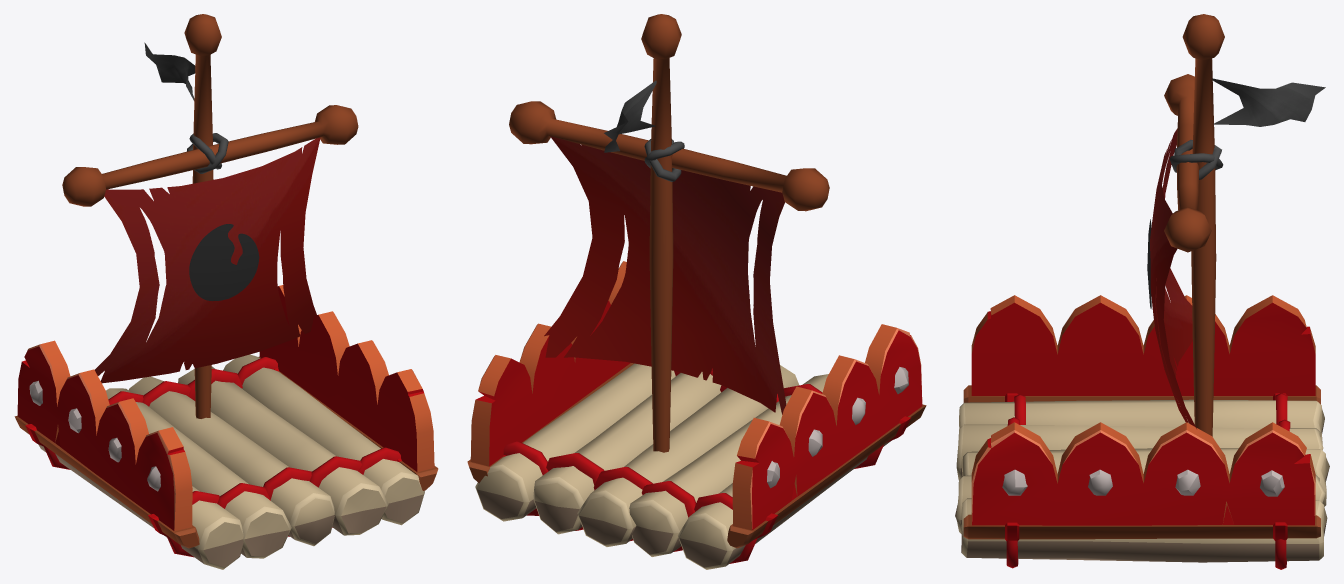
File: RaftTypeC.fbx
The picture shows the model from 3 angles, left to right: view 1: azimuth 30°, elevation 25°; view 2: azimuth 150°, elevation 25°; view 3: azimuth 270°, elevation 25°; orthographic projection. The views are drawn at different scales.
Visible parts, largest first — view 1: Red_Color_Cloth_04, Red_Color_06, Armor_Color_11, Red_Color_05, Armor_Color_10, Red_Color_04, Armor_Color_09, Red_Color_01, Red_Color_02; view 2: Red_Color_Cloth_04, Red_Color_06, Armor_Color_11, Red_Color_04, Red_Color_05, Armor_Color_10, Red_Color_02, Armor_Color_09; view 3: Armor_Color_10, Armor_Color_11, Red_Color_06, Red_Color_04, Red_Color_Cloth_04, Red_Color_05, Armor_Color_09, Red_Color_02, Red_Color_01.
Part boxes in pixels (x1,y1,x2,y2): Red_Color_Cloth_04: [95, 42, 320, 383]; Red_Color_06: [38, 133, 334, 569]; Armor_Color_11: [17, 340, 192, 531]; Red_Color_05: [178, 354, 424, 535]; Armor_Color_10: [259, 285, 434, 471]; Red_Color_04: [62, 14, 358, 418]; Armor_Color_09: [14, 356, 438, 548]; Red_Color_01: [167, 447, 400, 557]; Red_Color_02: [44, 357, 278, 469]; Red_Color_Cloth_04: [544, 80, 786, 414]; Red_Color_06: [577, 139, 891, 569]; Armor_Color_11: [732, 324, 922, 530]; Red_Color_04: [509, 14, 829, 452]; Red_Color_05: [475, 363, 721, 534]; Armor_Color_10: [470, 261, 630, 466]; Red_Color_02: [503, 441, 757, 563]; Armor_Color_09: [467, 363, 926, 548]; Armor_Color_10: [971, 422, 1315, 525]; Armor_Color_11: [971, 295, 1315, 395]; Red_Color_06: [956, 139, 1329, 506]; Red_Color_04: [1164, 14, 1224, 436]; Red_Color_Cloth_04: [1147, 78, 1325, 428]; Red_Color_05: [955, 475, 1327, 562]; Armor_Color_09: [963, 385, 1320, 540]; Red_Color_02: [1275, 393, 1290, 569]; Red_Color_01: [1006, 394, 1025, 568].
Bounding box in the file's own units: 16.13 × 24.3 × 16.32.
2 materials, 2 textured.
